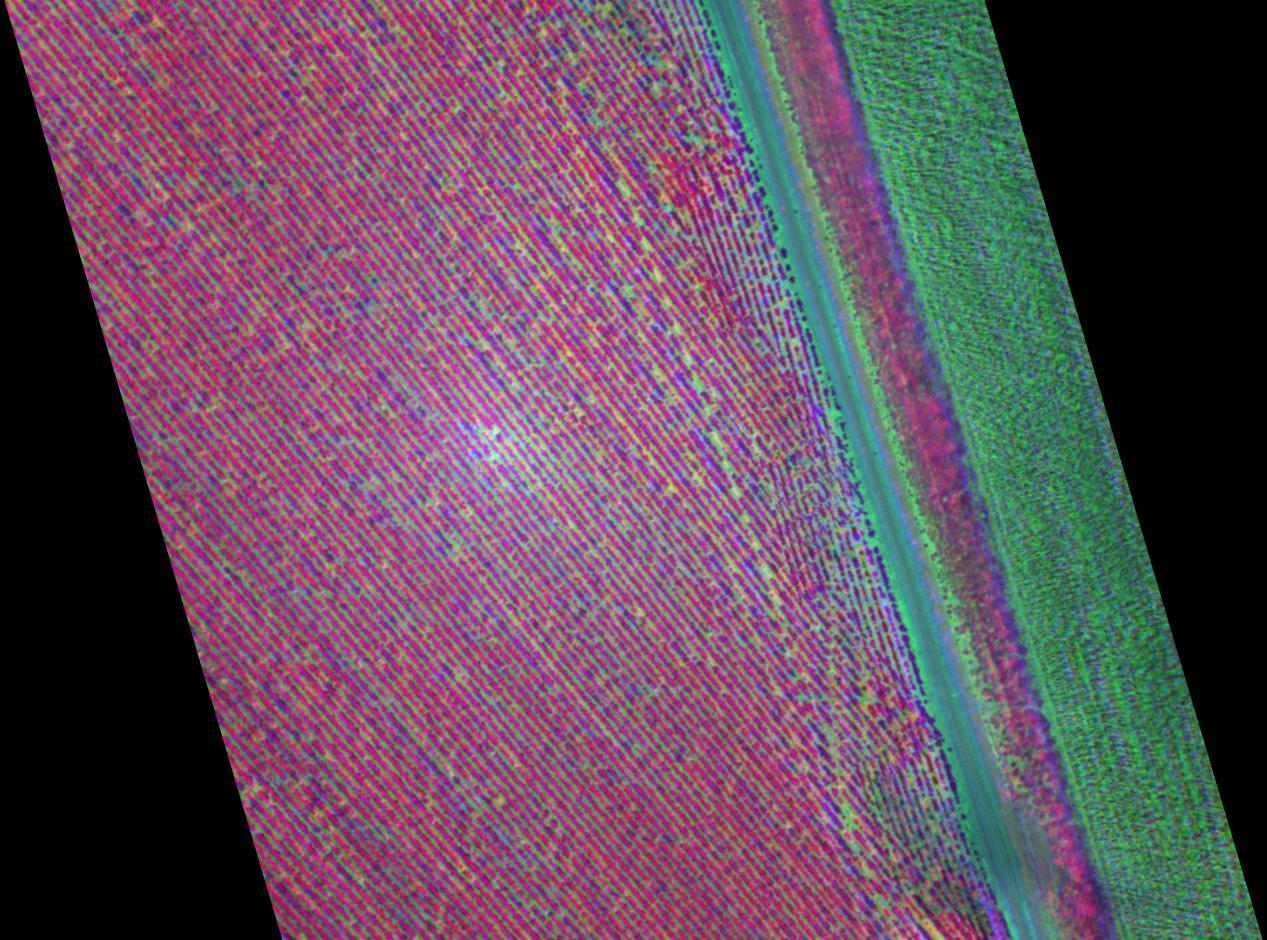dc: (843, 804, 850, 813), (714, 437, 721, 444), (732, 489, 739, 496), (695, 382, 701, 390), (673, 328, 681, 333), (743, 516, 749, 521), (724, 462, 728, 467)
